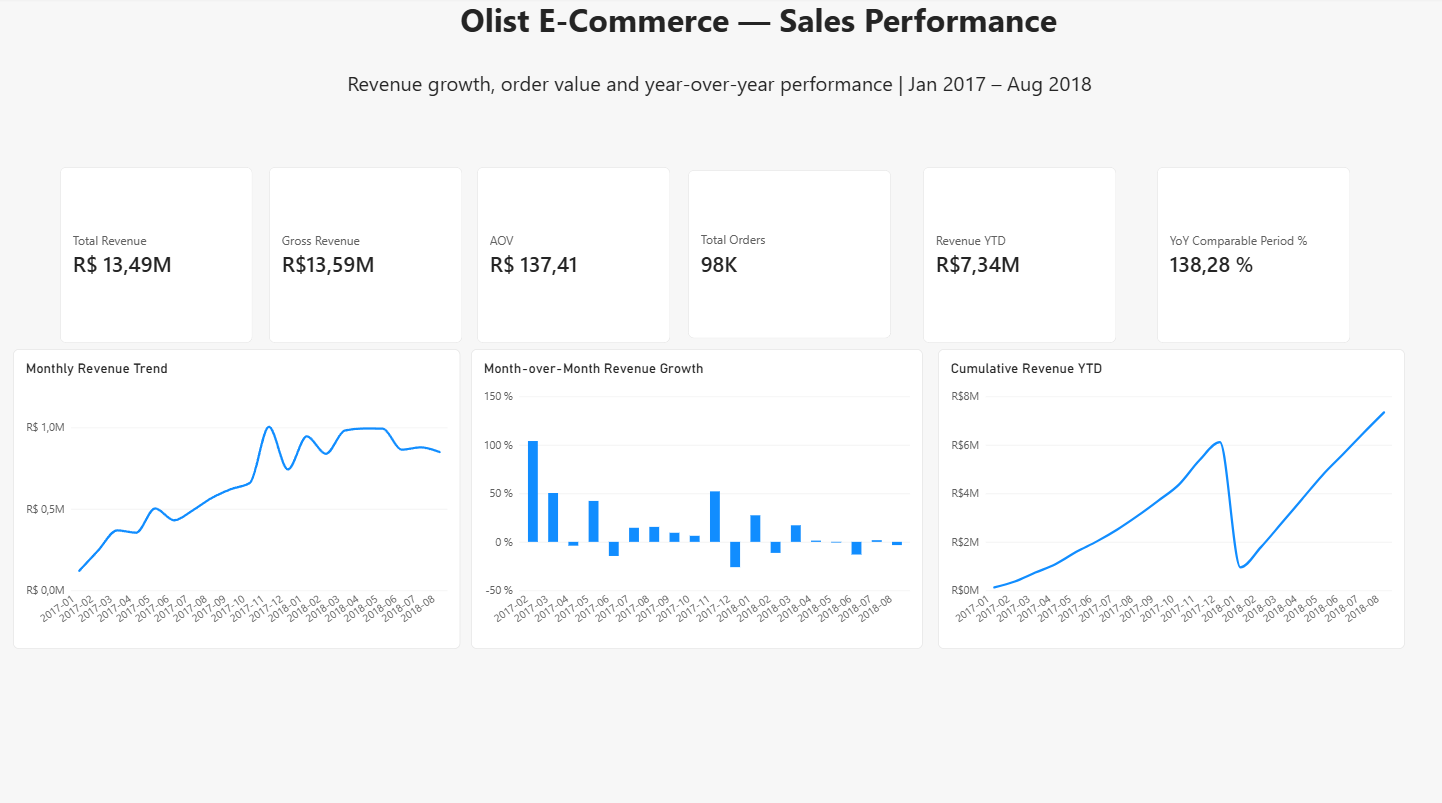

Layout of this report page (visuals, bound fields, positions):
{"tool":"powerbi","page":{"name":"Sales Performance","canvas":[1920,1080],"ordinal":1},"visuals":[{"type":"cardVisual","fields":{"Data":["_Measures.Total Revenue"]},"box":[81.3,226.4,256.7,234.1],"z":0},{"type":"cardVisual","fields":{"Data":["_Measures.AOV"]},"box":[635.9,226.4,257,234],"z":1000},{"type":"cardVisual","fields":{"Data":["_Measures.Revenue YTD"]},"box":[1229.1,226.4,257,234],"z":2000},{"type":"cardVisual","fields":{"Data":["_Measures.YoY Comparable Period %"]},"box":[1540.3,226.4,257,234],"z":3000},{"type":"cardVisual","fields":{"Data":["_Measures.Gross Revenue"]},"box":[359.2,226.4,257,234],"z":4000},{"type":"lineChart","title":"Monthly Revenue Trend","fields":{"Category":["analytics dim_date.year_month"],"Y":["_Measures.Total Revenue"]},"box":[18.7,468.4,594.5,399],"z":5000},{"type":"columnChart","title":"Month-over-Month Revenue Growth","fields":{"Category":["analytics dim_date.year_month"],"Y":["_Measures.MoM Growth %"]},"box":[627.9,468.4,601.2,399],"z":6000},{"type":"lineChart","title":"Cumulative Revenue YTD","fields":{"Category":["analytics dim_date.year_month"],"Y":["_Measures.Revenue YTD"]},"box":[1249,468.4,621.1,399],"z":7000},{"type":"cardVisual","fields":{"Data":["_Measures.Total Orders"]},"box":[916.5,230.3,270,224.8],"z":8000},{"type":"textbox","box":[80.2,0,1819.3,96.3],"z":9000},{"type":"textbox","box":[17.5,96.3,1882.1,89],"z":10000}]}

Visuals, with their boxes in screenshot pixels (x1, y1, x2, y2), scaled from the page's 1920x1080 canvas onto the 1442x803 screenshot:
cardVisual - _Measures.Total Revenue: 61/168/254/342
cardVisual - _Measures.AOV: 478/168/671/342
cardVisual - _Measures.Revenue YTD: 923/168/1116/342
cardVisual - _Measures.YoY Comparable Period %: 1157/168/1350/342
cardVisual - _Measures.Gross Revenue: 270/168/463/342
"Monthly Revenue Trend" lineChart: 14/348/461/645
"Month-over-Month Revenue Growth" columnChart: 472/348/923/645
"Cumulative Revenue YTD" lineChart: 938/348/1405/645
cardVisual - _Measures.Total Orders: 688/171/891/338
textbox: 60/0/1427/72
textbox: 13/72/1427/138
